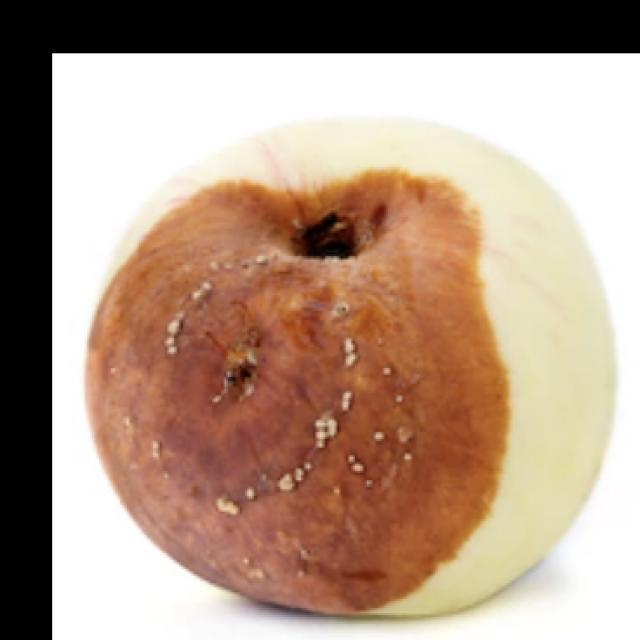Rotten: (86, 128, 603, 640)
